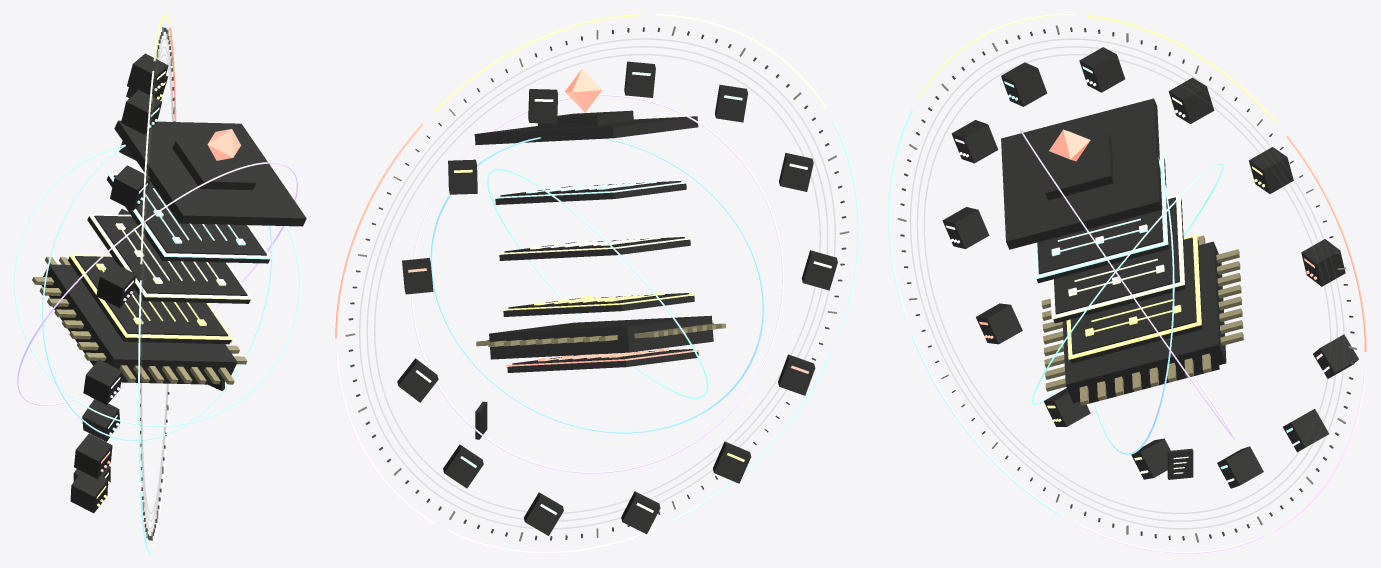
Rendered from sentinel-iot-core.glb.
The picture shows the model from 3 angles, left to right: view 1: azimuth 30°, elevation 25°; view 2: azimuth 150°, elevation 25°; view 3: azimuth 270°, elevation 25°; orthographic projection. The views are drawn at different scales.
Visible parts, largest first — view 1: Core_Lid, Self_Attention, Core_Base, Convolution, Prediction_Heads, Context_Rings, Telemetry_Orbit, Sentinel_Core, Sentinel_Processor, Source_05_Motion_Light, Source_06_Thermostat, Source_07_Weather (+5 smaller); view 2: Telemetry_Orbit, Core_Base, Context_Rings, Core_Lid, Self_Attention, Convolution, Prediction_Heads, Input_Projection, Sentinel_Core, Sentinel_Processor, Source_09_Linux_Memory, Source_11_Windows_7 (+11 smaller); view 3: Core_Lid, Telemetry_Orbit, Core_Base, Convolution, Self_Attention, Prediction_Heads, Sentinel_Core, Sentinel_Processor, Context_Rings, Source_01_Fridge, Source_00_Network, Source_02_GPS_Tracker (+11 smaller).
Boxes of the visible parts, x1=… form: Core_Lid: x1=114, y1=120, x2=306, y2=226; Self_Attention: x1=87, y1=213, x2=252, y2=303; Core_Base: x1=41, y1=264, x2=237, y2=380; Convolution: x1=68, y1=254, x2=232, y2=344; Prediction_Heads: x1=106, y1=173, x2=271, y2=263; Context_Rings: x1=14, y1=144, x2=300, y2=440; Telemetry_Orbit: x1=138, y1=14, x2=176, y2=553; Sentinel_Core: x1=32, y1=256, x2=247, y2=384; Sentinel_Processor: x1=172, y1=141, x2=256, y2=190; Source_05_Motion_Light: x1=96, y1=262, x2=136, y2=307; Source_06_Thermostat: x1=83, y1=359, x2=122, y2=404; Source_07_Weather: x1=74, y1=433, x2=112, y2=478; Telemetry_Orbit: x1=335, y1=14, x2=859, y2=553; Core_Base: x1=489, y1=315, x2=713, y2=359; Context_Rings: x1=411, y1=94, x2=783, y2=473; Core_Lid: x1=474, y1=69, x2=698, y2=145; Self_Attention: x1=498, y1=236, x2=691, y2=260; Convolution: x1=502, y1=292, x2=695, y2=316; Prediction_Heads: x1=494, y1=180, x2=687, y2=204; Input_Projection: x1=506, y1=348, x2=699, y2=372; Sentinel_Core: x1=476, y1=322, x2=725, y2=346; Sentinel_Processor: x1=538, y1=110, x2=633, y2=128; Source_09_Linux_Memory: x1=621, y1=491, x2=660, y2=534; Source_11_Windows_7: x1=443, y1=444, x2=483, y2=488; Core_Lid: x1=1001, y1=98, x2=1162, y2=249; Telemetry_Orbit: x1=888, y1=14, x2=1366, y2=553; Core_Base: x1=1062, y1=241, x2=1226, y2=403; Convolution: x1=1066, y1=234, x2=1202, y2=363; Self_Attention: x1=1050, y1=194, x2=1185, y2=323; Prediction_Heads: x1=1033, y1=154, x2=1169, y2=283; Sentinel_Core: x1=1041, y1=235, x2=1243, y2=405; Sentinel_Processor: x1=1043, y1=132, x2=1113, y2=200; Context_Rings: x1=1019, y1=128, x2=1235, y2=454; Source_01_Fridge: x1=1249, y1=147, x2=1293, y2=193; Source_00_Network: x1=1301, y1=239, x2=1345, y2=286; Source_02_GPS_Tracker: x1=1168, y1=77, x2=1214, y2=123.
Size of the model in its own units: 3.65 by 5.72 by 4.75.
